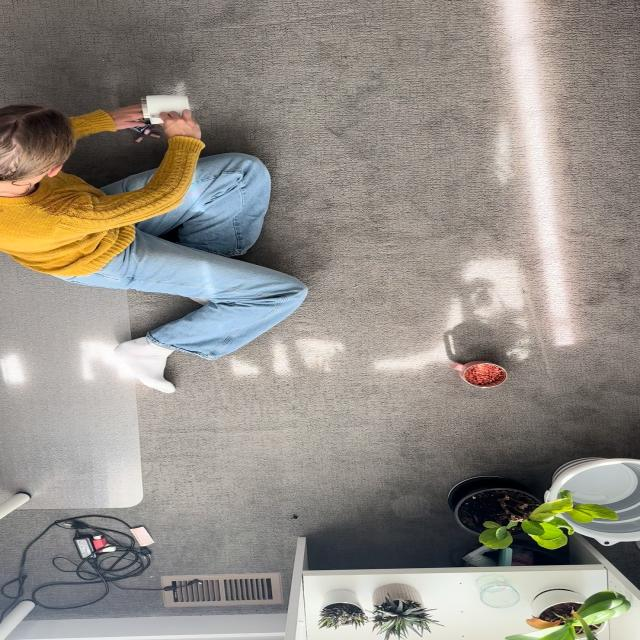IBC: (450, 360, 507, 388), (141, 95, 190, 125)
